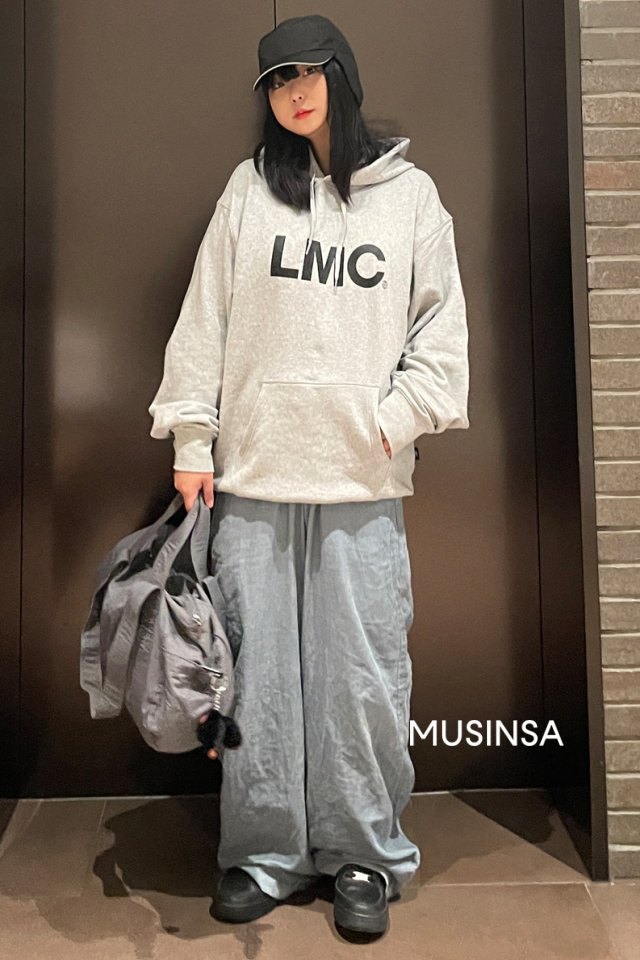Bag: (79, 488, 248, 755)
Hat: (250, 14, 370, 100)
Hoodie: (164, 129, 480, 510)
Pants: (215, 502, 435, 878)
Shoes: (208, 850, 403, 947)
